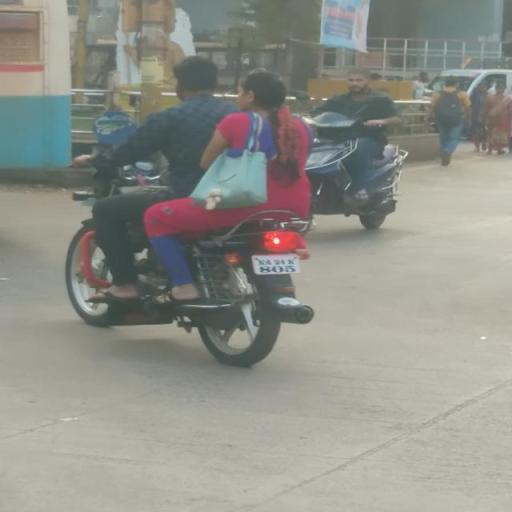bike: (58, 50, 327, 369)
numberplate: (253, 255, 303, 276)
withouthelmet: (174, 58, 219, 99), (242, 70, 284, 112)
